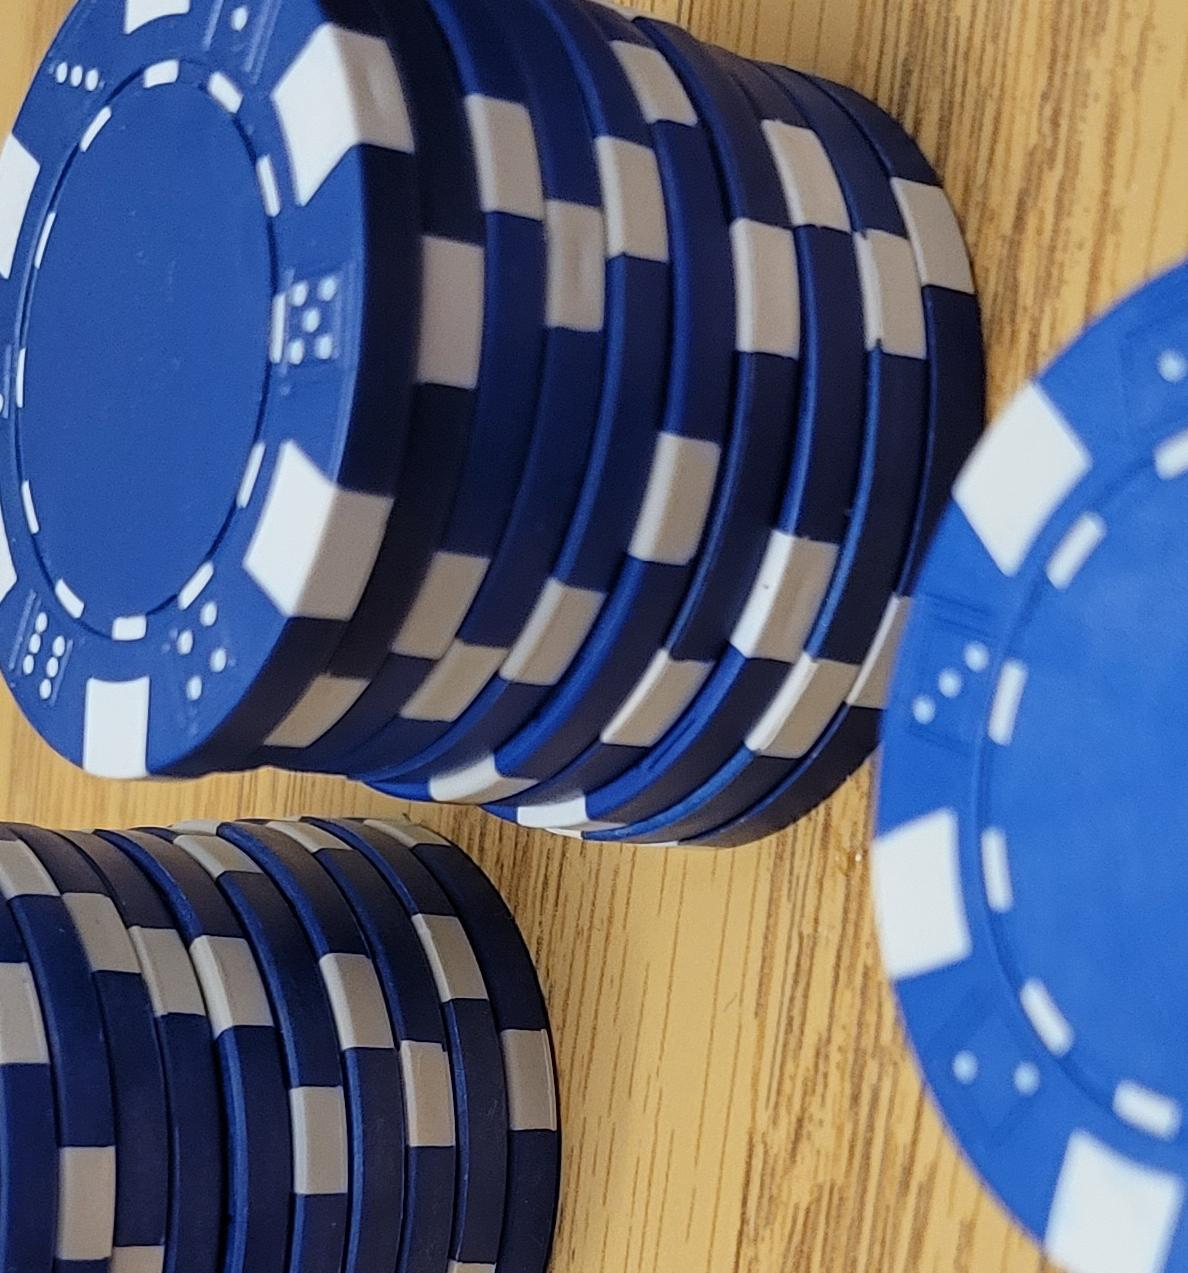Chip: (1, 114, 528, 1273)
